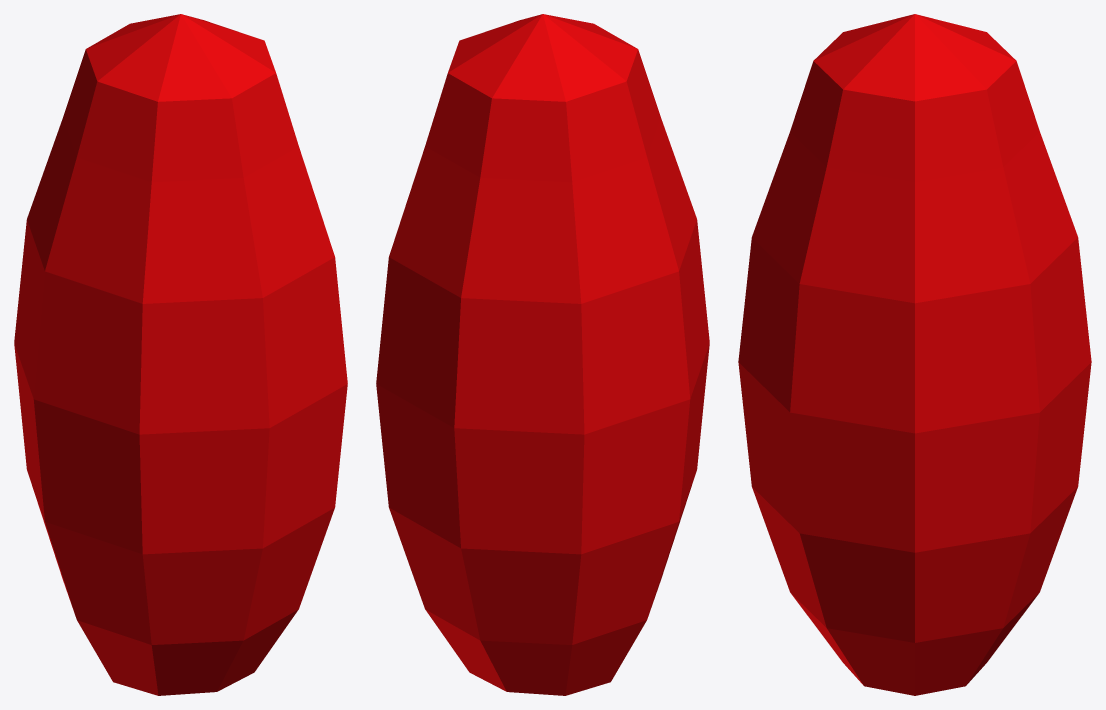
Rendered from manDamaged.glb.
The picture shows the model from 3 angles, left to right: view 1: azimuth 30°, elevation 25°; view 2: azimuth 150°, elevation 25°; view 3: azimuth 270°, elevation 25°; orthographic projection.
Visible parts, largest first — view 1: Sphere; view 2: Sphere; view 3: Sphere.
Part boxes in pixels (box(x1,y1,x2,y2)): Sphere: box(14, 14, 347, 695); Sphere: box(376, 14, 709, 695); Sphere: box(738, 14, 1091, 695).
Bounding box in the file's own units: 0.9421 × 2.07 × 0.9824.
